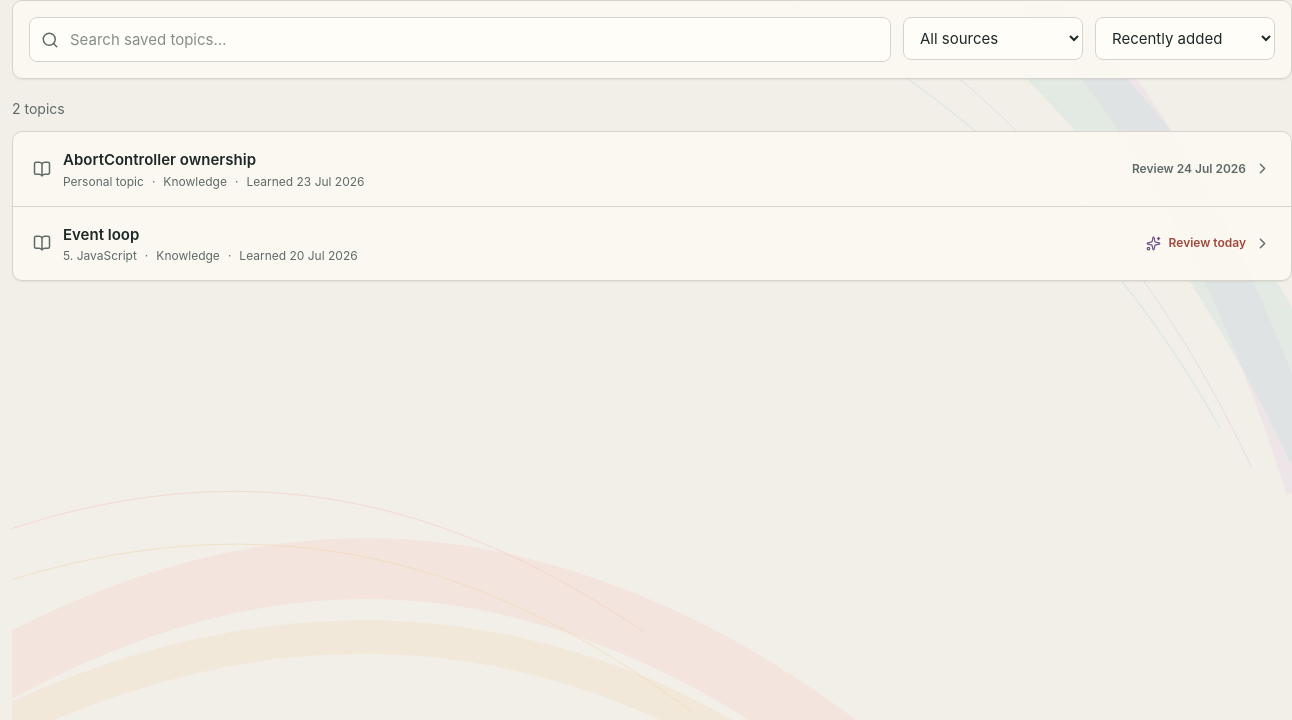
Test case: TopicLibrary › keeps personal captures visible and links them to their note page
Expected: the link "Event loop" is shown, 33,224 -> 1271,263
Select "Personal topics" in the 1st dropdown named "Filter by source" at (993, 38), box 903,17 -> 1083,60
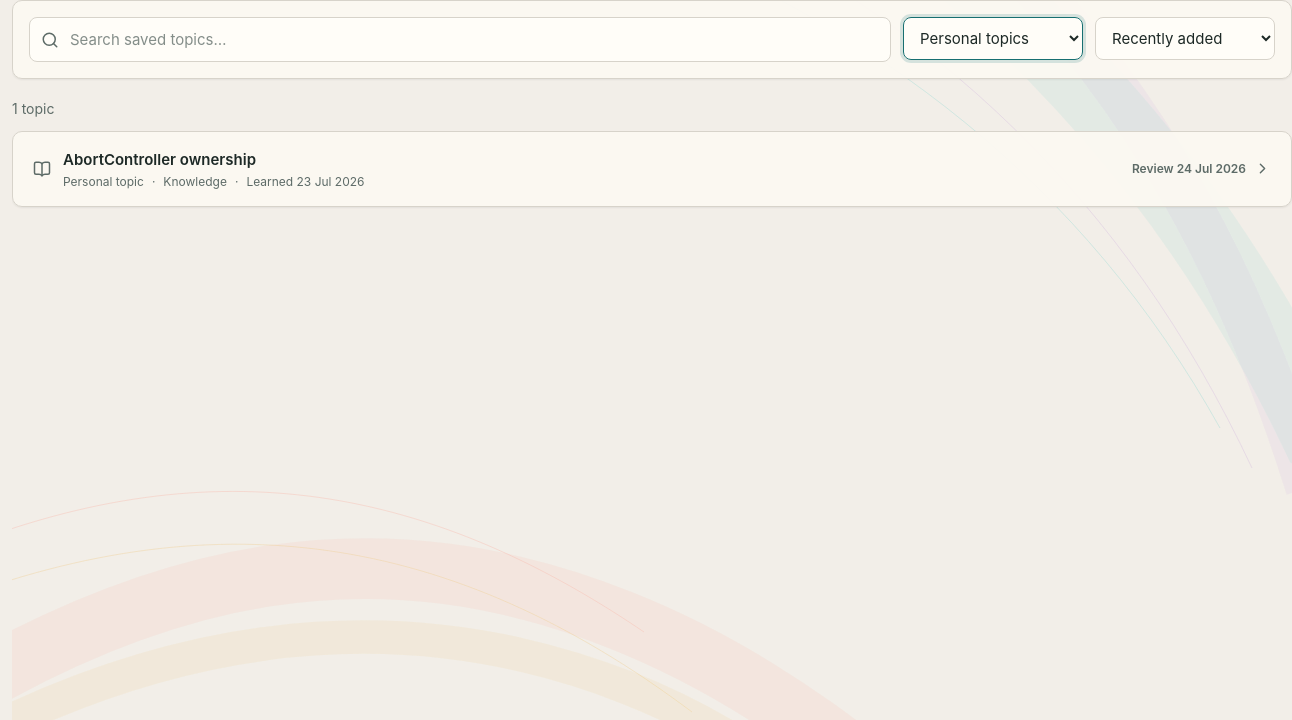
Expected: the link "AbortController ownership" is shown, 33,150 -> 1271,189
Result: the link "Event loop" is gone
